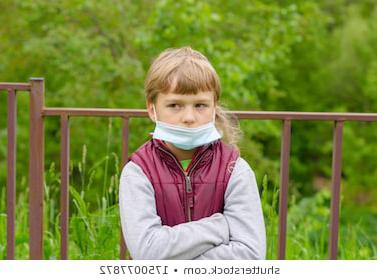mask_weared_incorrect: (162, 98, 211, 145)
